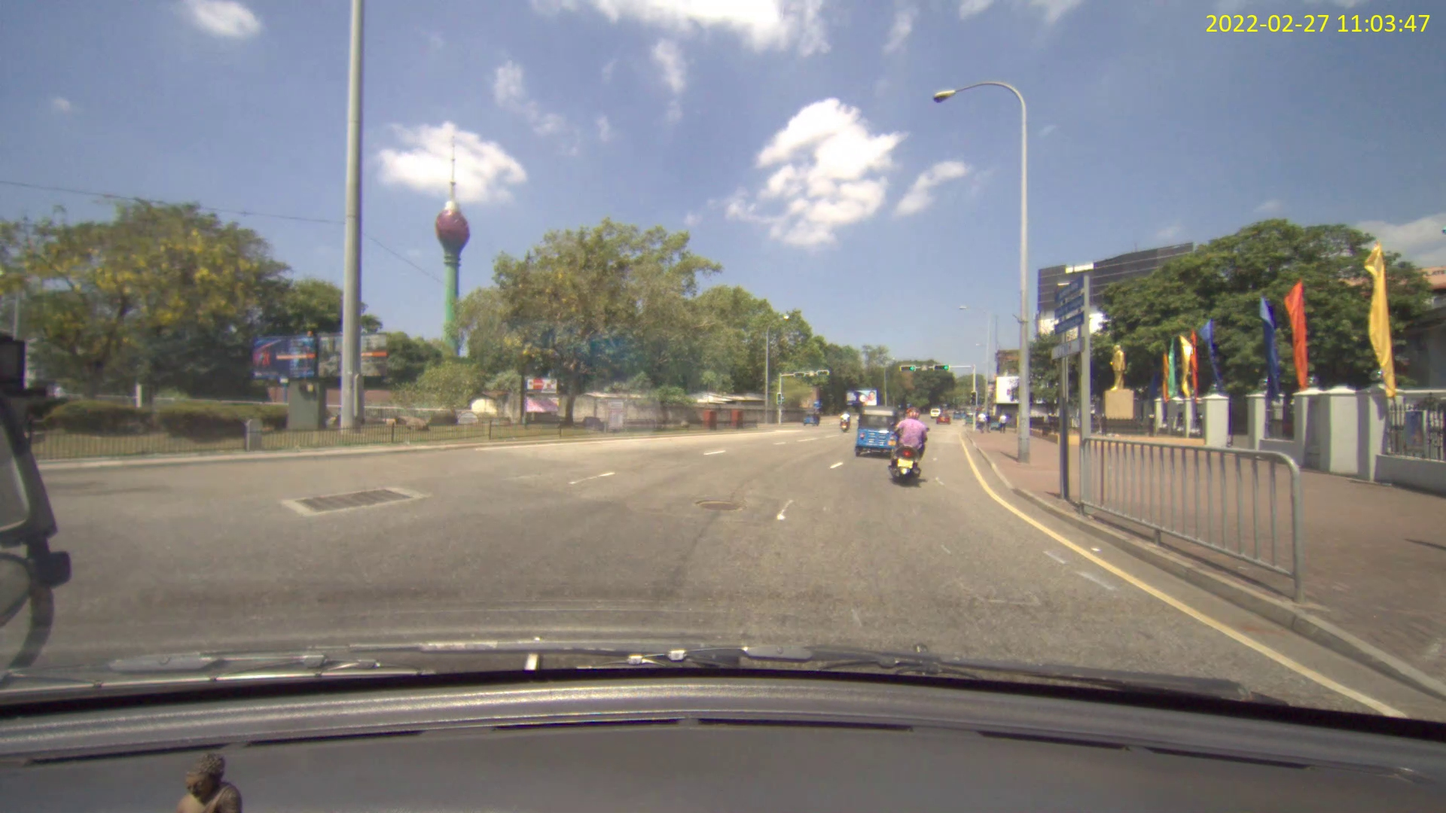Green: (933, 364, 949, 371), (899, 364, 915, 371)
